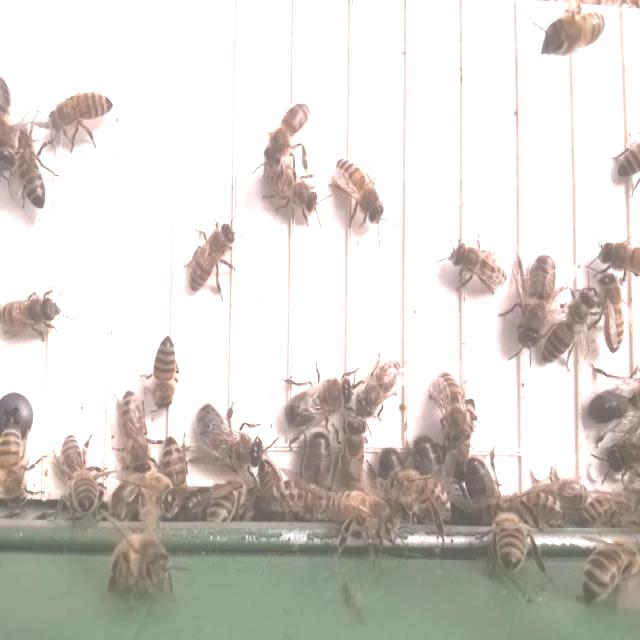Drone: (195, 399, 266, 474), (514, 247, 558, 352), (285, 372, 355, 434), (582, 381, 640, 431)
Worker: (540, 287, 595, 370), (333, 155, 389, 227), (190, 219, 238, 297), (448, 239, 510, 293), (541, 11, 607, 60), (12, 130, 50, 215), (433, 369, 474, 447), (48, 87, 116, 134), (260, 163, 322, 214), (266, 98, 313, 163), (358, 354, 403, 419), (119, 391, 153, 476), (0, 292, 61, 336), (151, 331, 180, 416), (597, 274, 626, 355)
